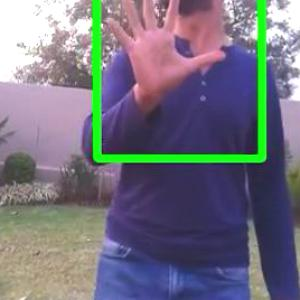follow_hand: (101, 0, 228, 101)
